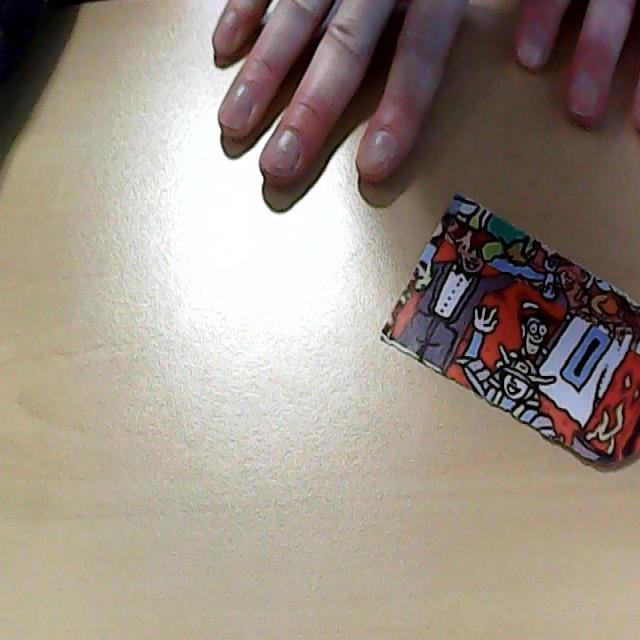waldo: (517, 288, 564, 372)
